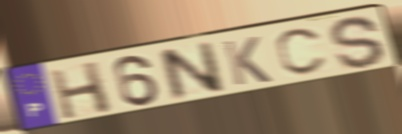6: (112, 53, 160, 108)
C: (274, 25, 329, 78)
H: (47, 59, 115, 121)
K: (220, 34, 275, 88)
N: (155, 38, 228, 103)
S: (327, 14, 388, 71)
